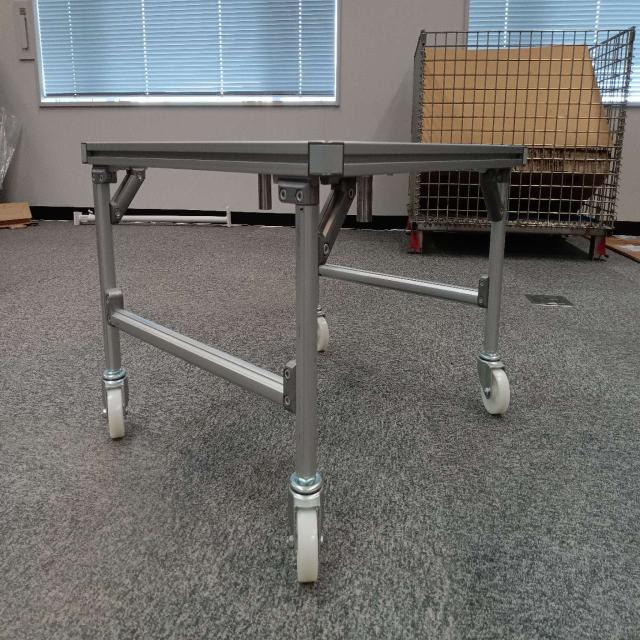door: (312, 141, 507, 268)
side: (92, 136, 309, 410)
